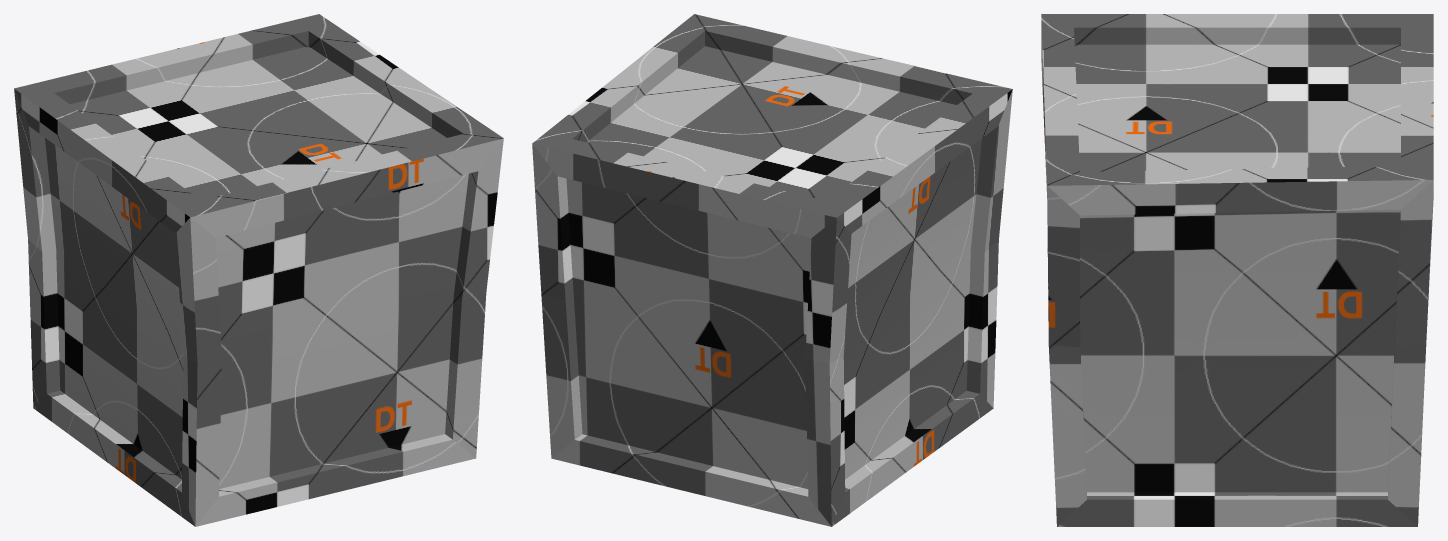
Rendered from caisse-bois.FBX.
3 views of the same model, side by side, from view 1: azimuth 30°, elevation 25°; view 2: azimuth 150°, elevation 25°; view 3: azimuth 270°, elevation 25° (orthographic). The views are drawn at different scales.
Visible parts, largest first — view 1: Caisse; view 2: Caisse; view 3: Caisse.
Part boxes in pixels (x1,y1,x2,y2): Caisse: [14, 14, 503, 526]; Caisse: [532, 14, 1012, 526]; Caisse: [1041, 14, 1433, 526].
Size of the model in its own units: 41.45 by 39.79 by 40.
1 material, 1 textured.
